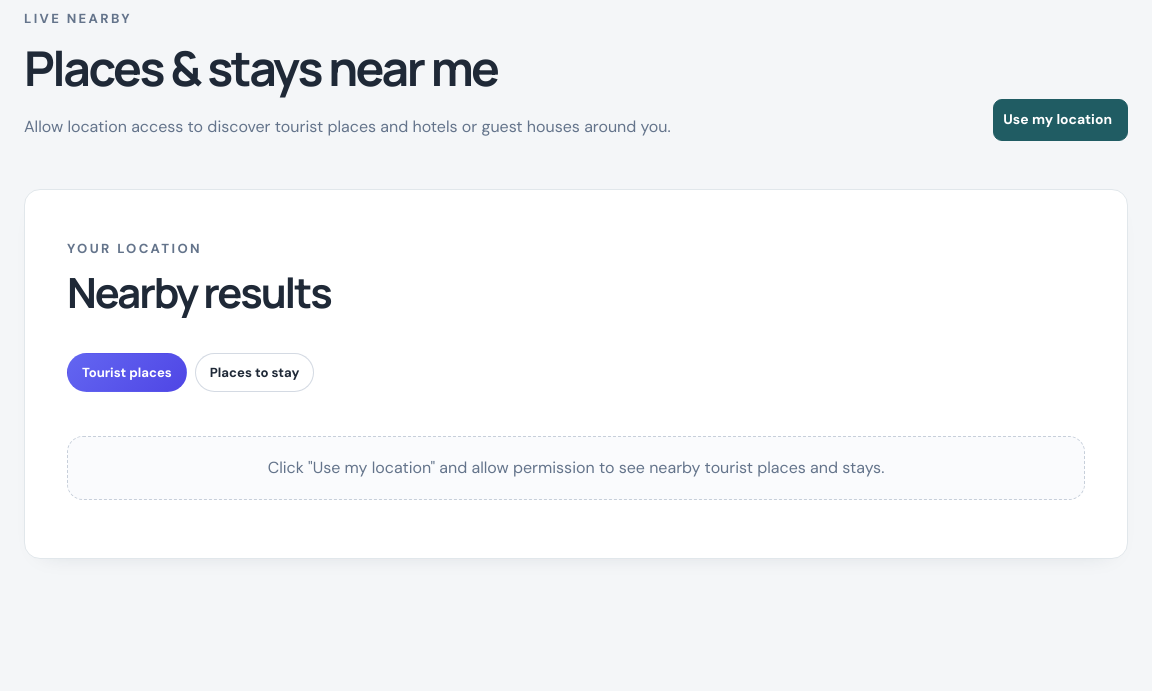
Test: NearMePage › shows nearby tourist places, nearest first, after allowing location
This screenshot has width=1152, height=691.
Step 1. Click the button "Use my location" → (1061, 120), box x1=993 y1=99 x2=1128 y2=141
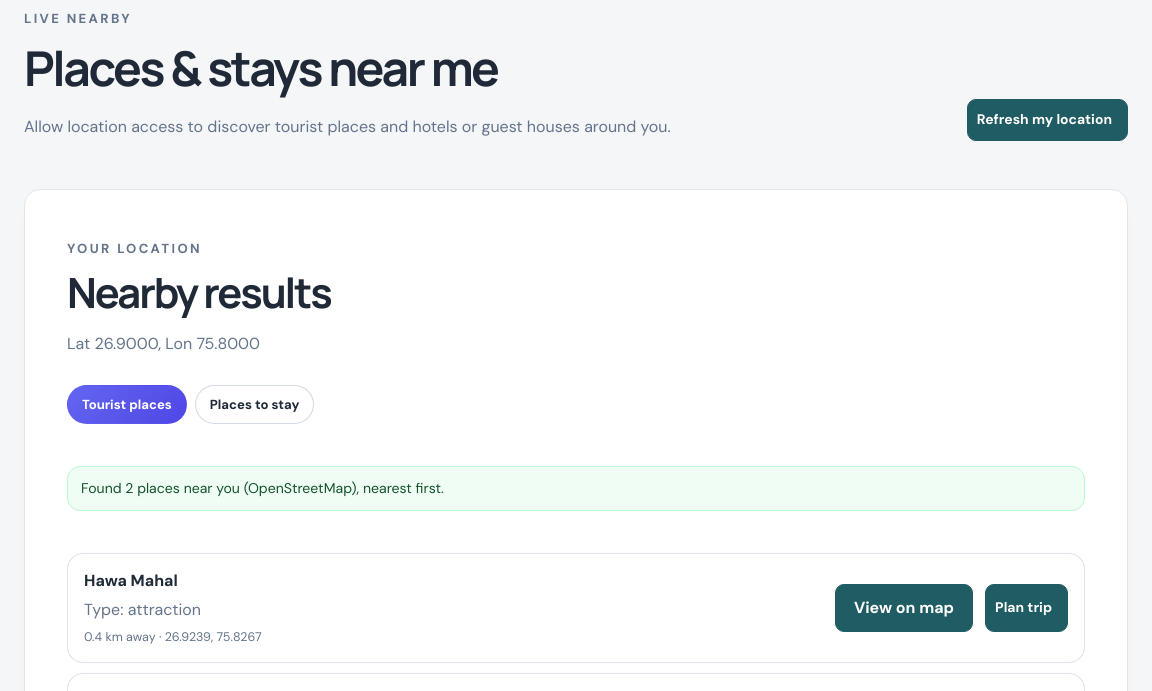
Expected: the text "Hawa Mahal" is shown, x1=84 y1=570 x2=178 y2=591
Expected: the text "0.4 km away · 26.9239, 75.8267" is shown, x1=84 y1=629 x2=262 y2=645
Expected: the text "Found 2 places near you (OpenStreetMap), nearest first." is shown, x1=67 y1=466 x2=1085 y2=511
